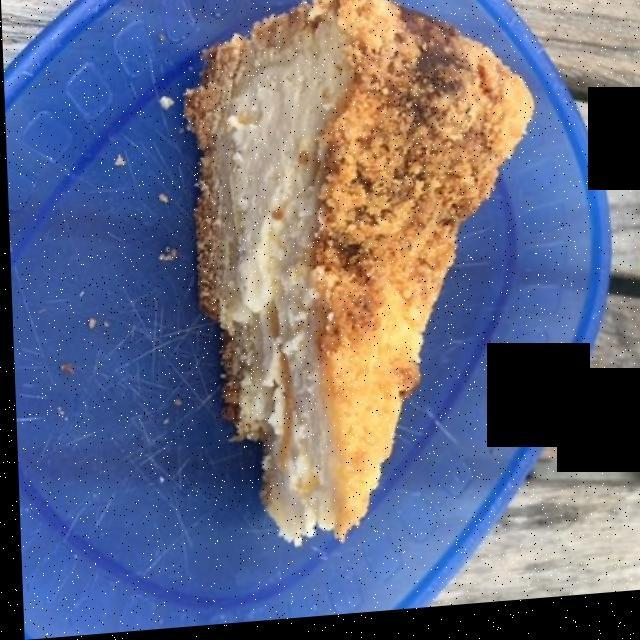cheesecake: (191, 0, 528, 539)
